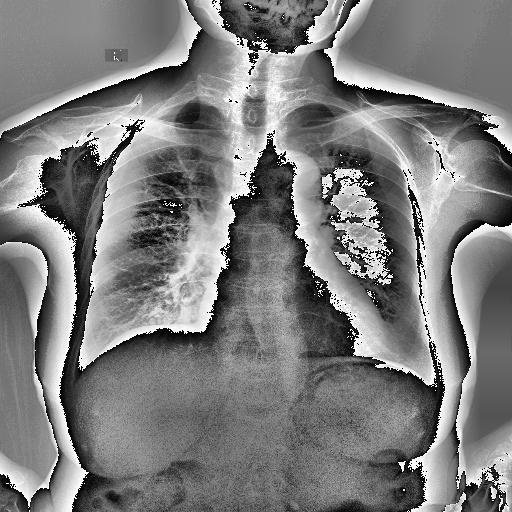0- Aortic enlargement: (259, 149, 322, 220), (266, 152, 324, 212), (268, 150, 322, 204)
3- Cardiomegaly: (194, 294, 390, 358)
